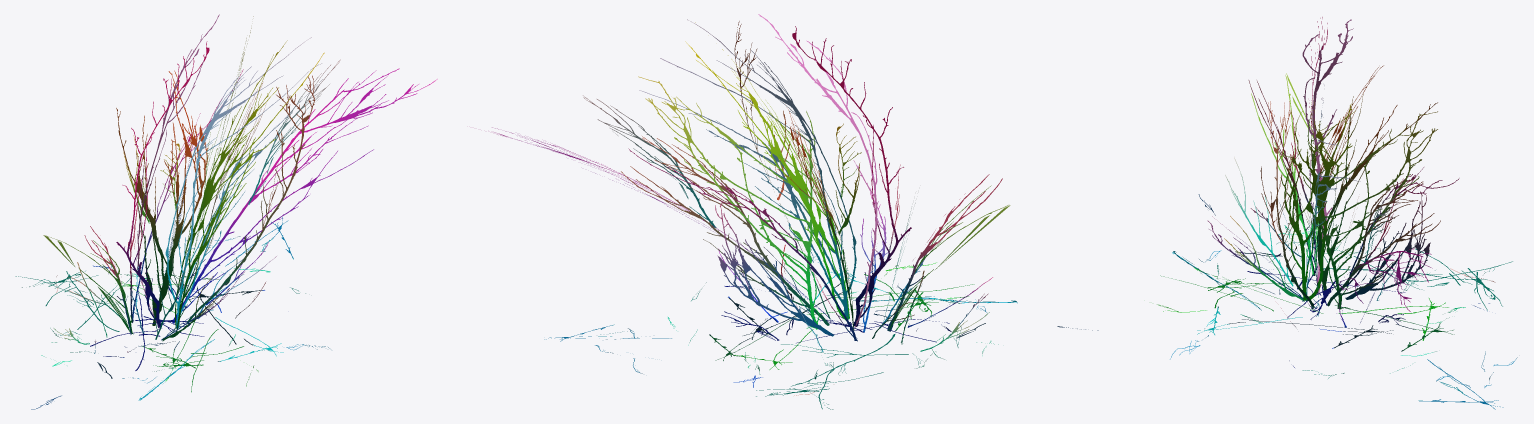
Rendered from Dead_Shrubs_vdknafgha_Raw_vdknafgha_VarH_LOD0.fbx.
The picture shows the model from 3 angles, left to right: view 1: azimuth 30°, elevation 25°; view 2: azimuth 150°, elevation 25°; view 3: azimuth 270°, elevation 25°; orthographic projection. The views are drawn at different scales.
Parts seen in each view (by area): view 1: _9jjd_VarH_High; view 2: _9jjd_VarH_High; view 3: _9jjd_VarH_High.
Part boxes in pixels (<box>): _9jjd_VarH_High: <box>15,14,437,409</box>; _9jjd_VarH_High: <box>492,14,1098,409</box>; _9jjd_VarH_High: <box>1157,17,1517,409</box>.
Size of the model in its own units: 95.98 by 53.58 by 57.01.
